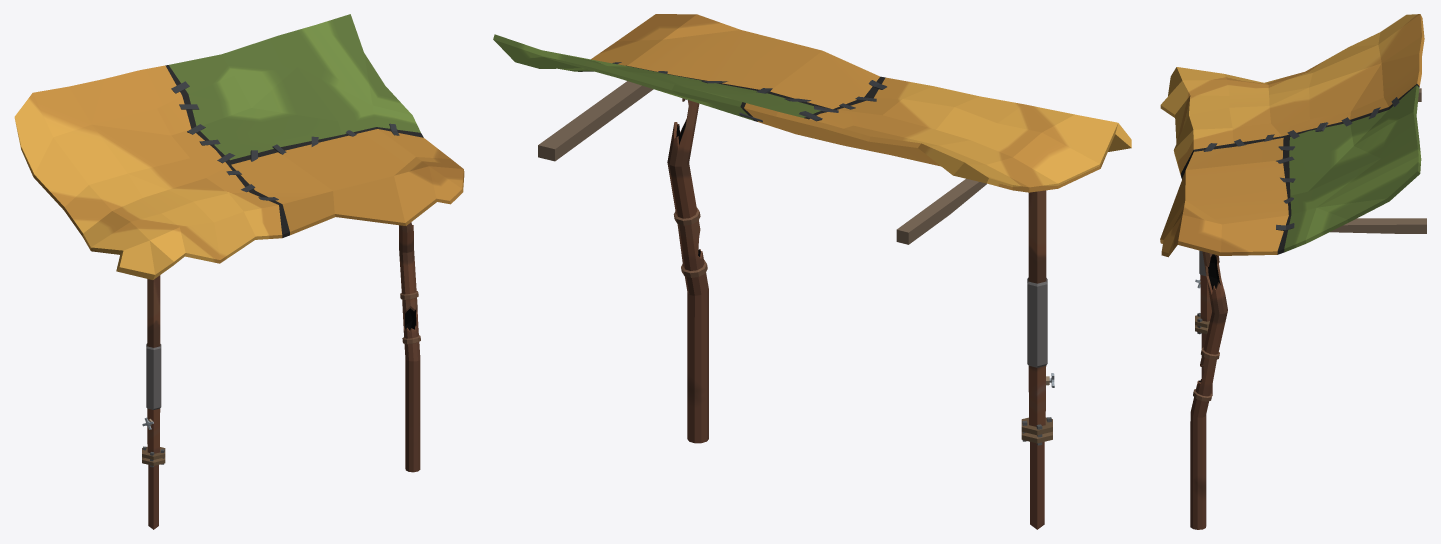
File: SM_Bld_Awning_06_Alt.obj
3 renders of one model, left to right at view 1: azimuth 30°, elevation 25°; view 2: azimuth 150°, elevation 25°; view 3: azimuth 270°, elevation 25°, orthographic. The views are drawn at different scales.
Parts seen in each view (by area): view 1: SM_Bld_Awning_06_Alt_0; view 2: SM_Bld_Awning_06_Alt_0; view 3: SM_Bld_Awning_06_Alt_0.
Part boxes in pixels (x1,y1,x2,y2): SM_Bld_Awning_06_Alt_0: (14,14,464,529); SM_Bld_Awning_06_Alt_0: (493,14,1131,529); SM_Bld_Awning_06_Alt_0: (1160,14,1426,529).
Size of the model in its own units: 2.83 by 2.74 by 1.75.
1 material, 1 textured.
